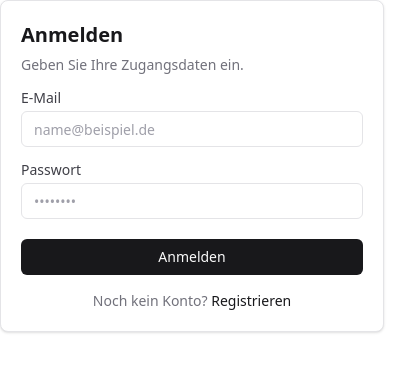
Test: LoginForm (Integration) › zeigt Validierungsfehler bei ungültiger E-Mail
This screenshot has width=401, height=372.
In the field labelled "E-Mail": (192,129) [21, 111, 363, 147], type "keine-email"
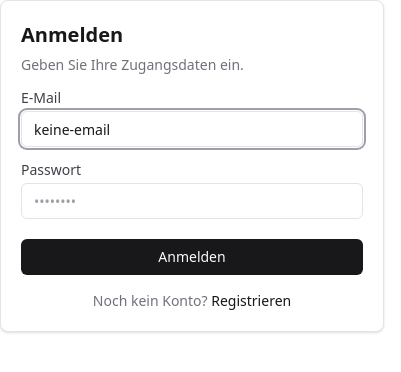
In the password field labelled "Passwort": (192,201) [21, 183, 363, 219], type "passwort123"
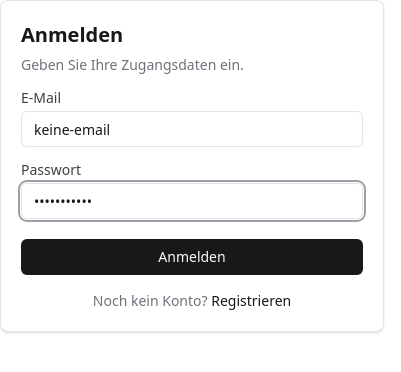
Click the button "Anmelden": (192,257) [21, 239, 363, 275]
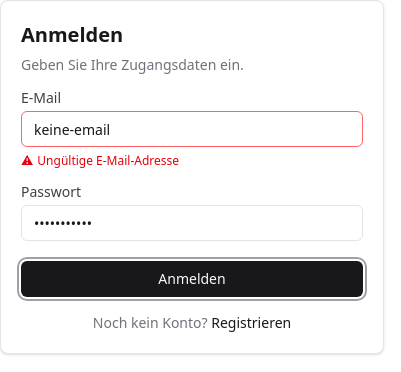
Expected: the text "⚠ Ungültige E-Mail-Adresse" is shown, [21, 152, 179, 169]
